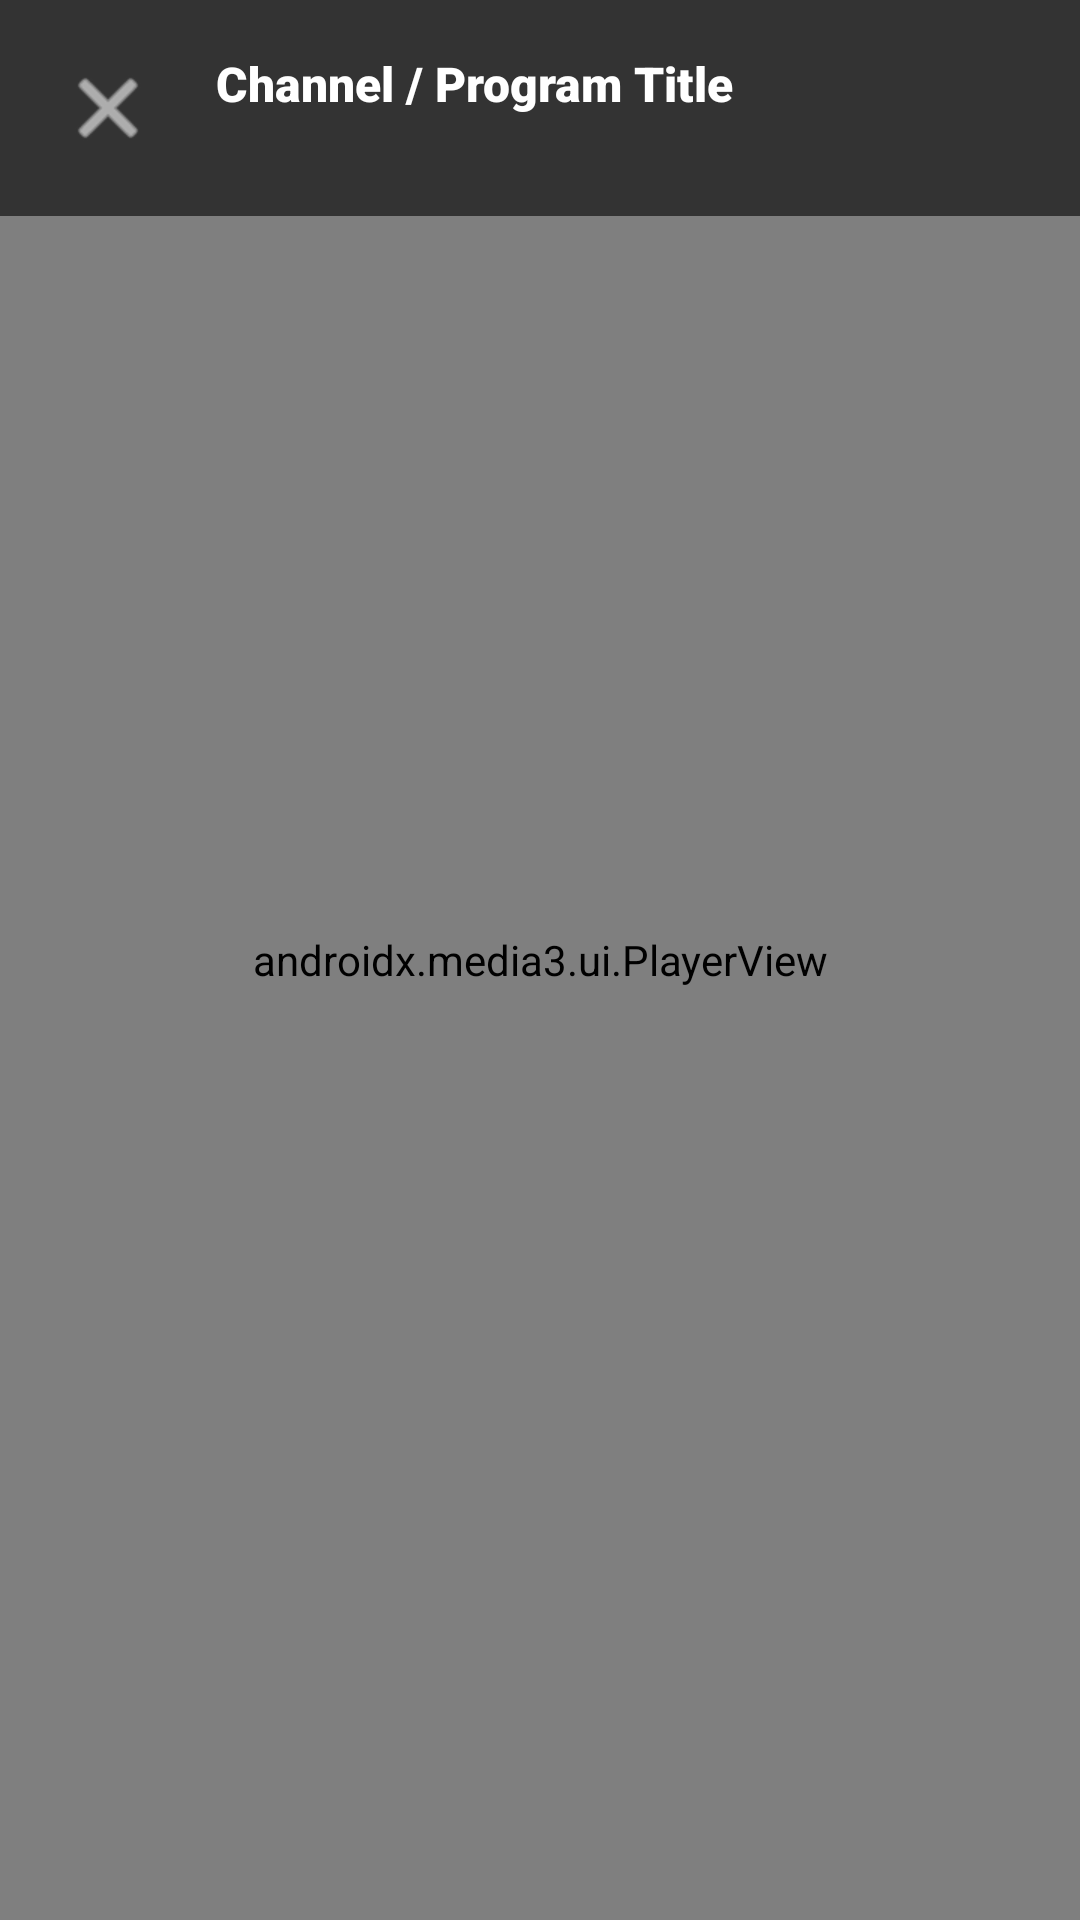

Screen size 1080*1920. Icon name, then its box in pixels as {"x1": x1, "y1": y1, "x2": x2, "y2": y2}:
close clear cancel: {"x1": 78, "y1": 78, "x2": 138, "y2": 138}
